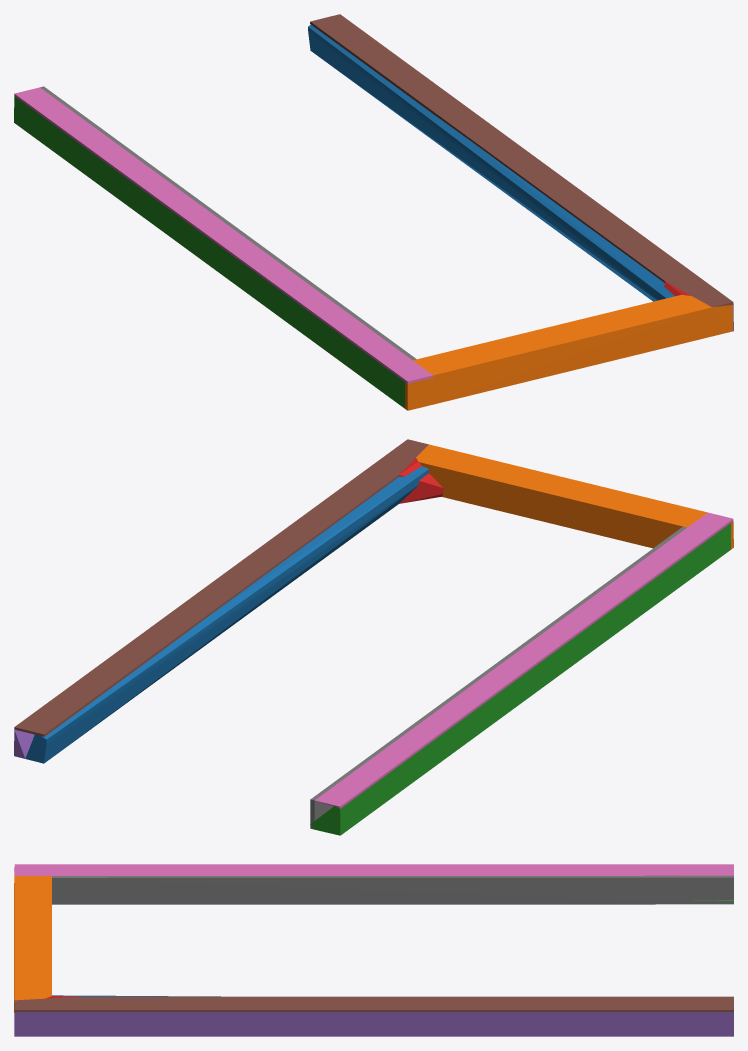
Rendered from Door_Frame_cvx.obj.
3 renders of one model, top to bottom at view 1: azimuth 30°, elevation 25°; view 2: azimuth 150°, elevation 25°; view 3: azimuth 270°, elevation 25°, orthographic. The views are drawn at different scales.
Parts seen in each view (by area): view 1: scenes/apartment_0000_coacd/output/Unknown/Door_Frame/cvx/Door_F; view 2: scenes/apartment_0000_coacd/output/Unknown/Door_Frame/cvx/Door_F; view 3: scenes/apartment_0000_coacd/output/Unknown/Door_Frame/cvx/Door_F.
Part boxes in pixels (bbox=[...]): scenes/apartment_0000_coacd/output/Unknown/Door_Frame/cvx/Door_F: bbox=[14, 14, 733, 410]; scenes/apartment_0000_coacd/output/Unknown/Door_Frame/cvx/Door_F: bbox=[14, 439, 733, 835]; scenes/apartment_0000_coacd/output/Unknown/Door_Frame/cvx/Door_F: bbox=[14, 864, 733, 1036].
Bounding box in the file's own units: 1.03 × 0.0888 × 2.16.
